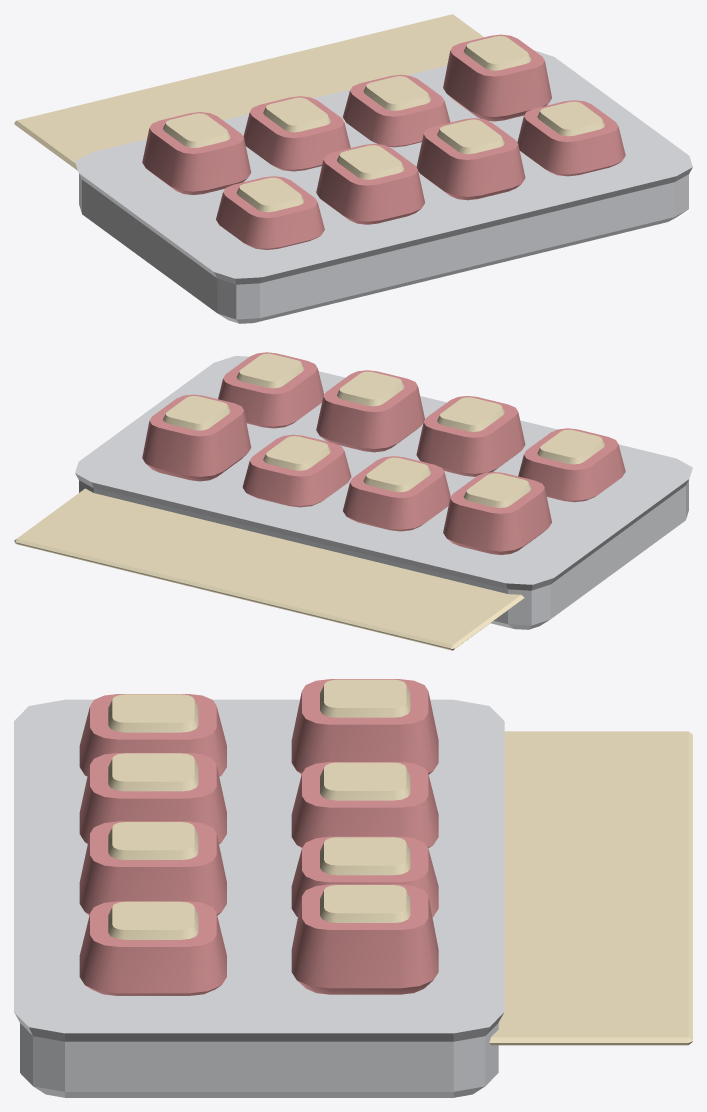
The model's file is butchers-shop-and-deli-counter-display-tray-of-cuts-b1bc945a__34428.glb.
3 views of the same model, one above another, from view 1: azimuth 30°, elevation 25°; view 2: azimuth 150°, elevation 25°; view 3: azimuth 270°, elevation 25° (orthographic). The views are drawn at different scales.
Visible parts, largest first — view 1: display-tray-of-cuts; view 2: display-tray-of-cuts; view 3: display-tray-of-cuts.
Boxes of the visible parts, <box> form: display-tray-of-cuts: <box>14,14,692,323</box>; display-tray-of-cuts: <box>14,352,692,650</box>; display-tray-of-cuts: <box>14,679,692,1097</box>.
Bounding box in the file's own units: 0.528 × 0.1088 × 0.454.
